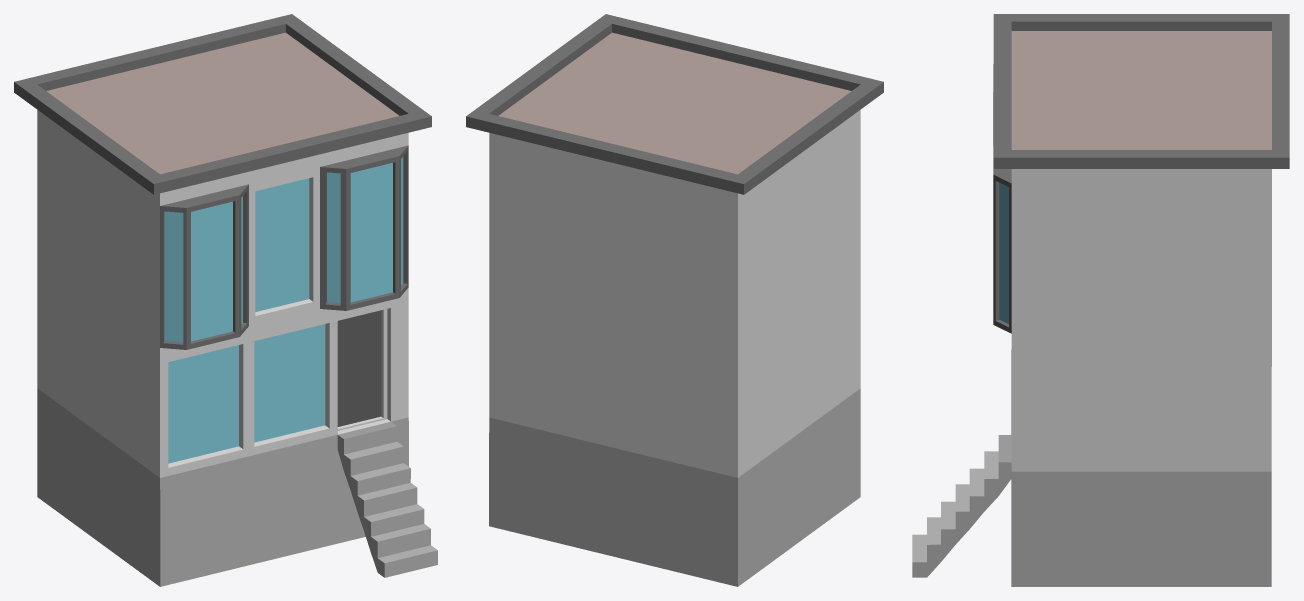
3 renders of one model, left to right at view 1: azimuth 30°, elevation 25°; view 2: azimuth 150°, elevation 25°; view 3: azimuth 270°, elevation 25°, orthographic. The views are drawn at different scales.
Visible parts, largest first — view 1: pCube32; view 2: pCube32; view 3: pCube32.
Part boxes in pixels (bbox=[...]): pCube32: bbox=[14, 14, 437, 586]; pCube32: bbox=[466, 14, 883, 586]; pCube32: bbox=[912, 14, 1289, 586].
Size of the model in its own units: 626 by 888 by 695.
